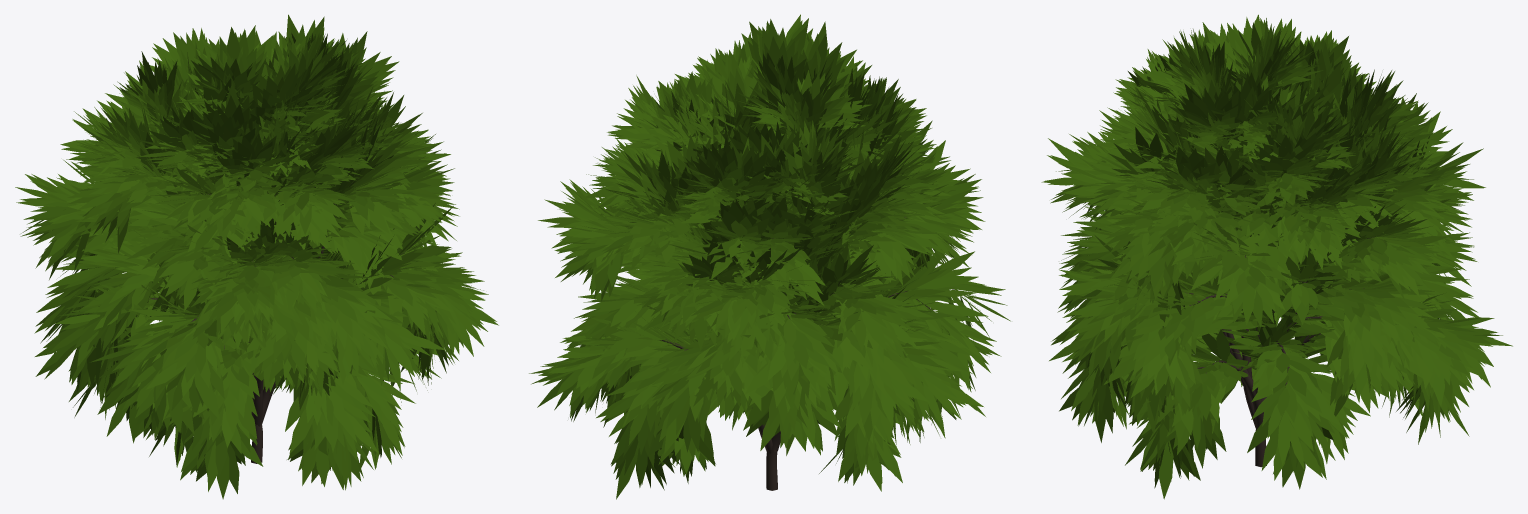
The model's file is tree.fbx.
3 views of the same model, side by side, from view 1: azimuth 30°, elevation 25°; view 2: azimuth 150°, elevation 25°; view 3: azimuth 270°, elevation 25° (orthographic).
Parts seen in each view (by area): view 1: leaves, tree; view 2: leaves, tree; view 3: leaves, tree.
Boxes of the visible parts, box(x1,y1,x2,y2) form: leaves: box(15, 14, 498, 499); tree: box(149, 181, 404, 463); leaves: box(529, 14, 1010, 499); tree: box(660, 217, 954, 490); leaves: box(1041, 14, 1512, 499); tree: box(1185, 185, 1375, 467).
Bounding box in the file's own units: 690 × 737 × 720.
